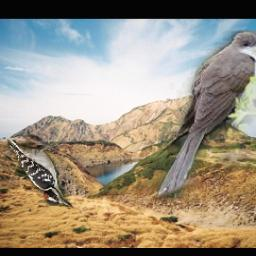Cuckoo: (157, 31, 256, 199)
Woodpecker: (8, 140, 71, 206)
